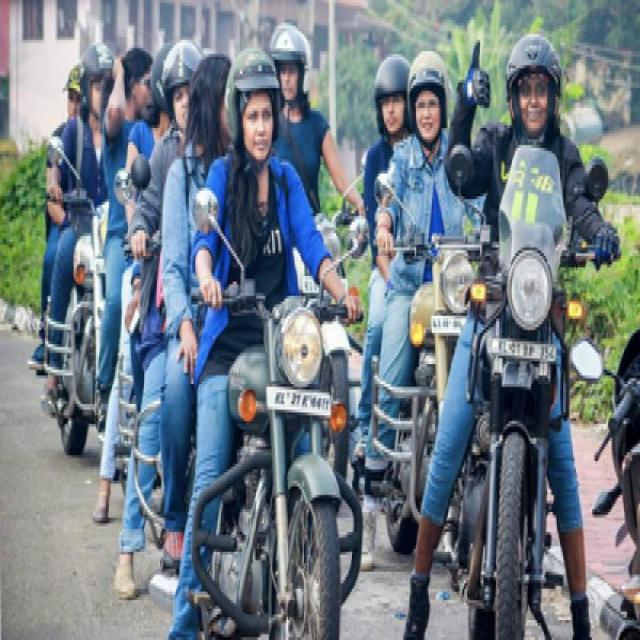Helmet: (226, 46, 283, 183), (505, 26, 562, 148), (400, 54, 454, 162), (368, 51, 409, 160), (271, 24, 317, 118), (81, 27, 115, 132), (160, 38, 193, 134), (63, 61, 86, 119)
